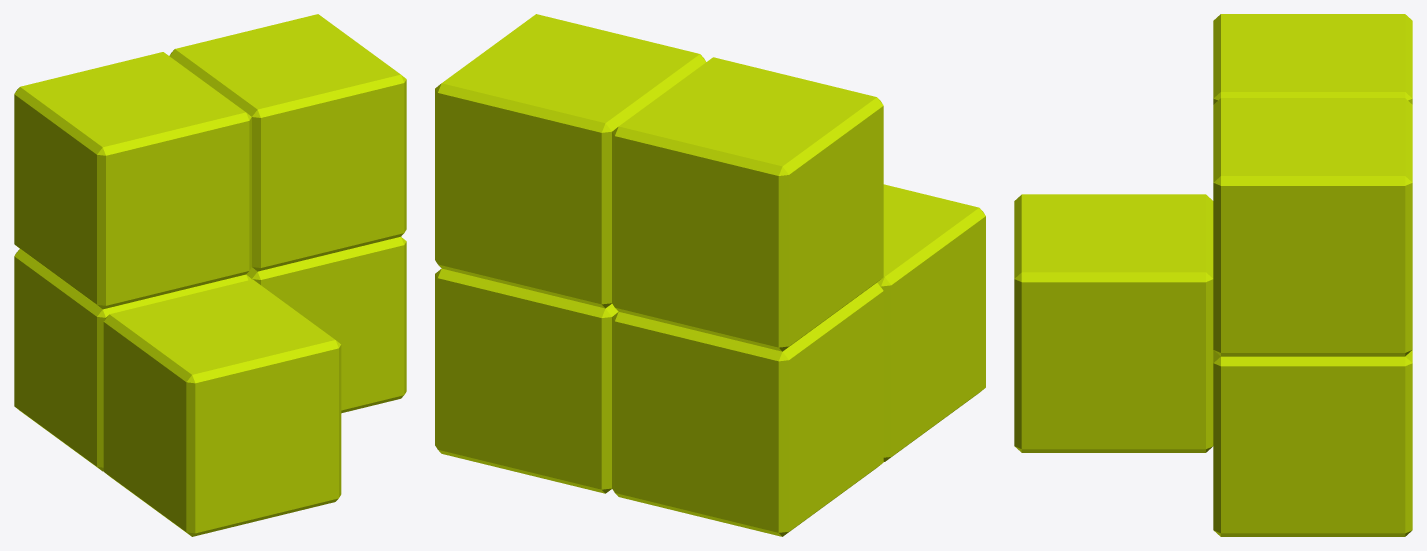
3 renders of one model, left to right at view 1: azimuth 30°, elevation 25°; view 2: azimuth 150°, elevation 25°; view 3: azimuth 270°, elevation 25°, orthographic. The views are drawn at different scales.
Visible parts, largest first — view 1: Cube, Cube.002, Cube.004, Cube.001, Cube.003; view 2: Cube.002, Cube.001, Cube.004, Cube.003, Cube; view 3: Cube, Cube.004, Cube.003, Cube.002.
Part boxes in pixels (x1,y1,x2,y2): Cube: (103,279,341,536); Cube.002: (14,52,251,309); Cube.004: (169,14,406,271); Cube.001: (14,249,251,471); Cube.003: (246,236,406,413); Cube.002: (612,57,883,351); Cube.001: (612,282,883,536); Cube.004: (435,14,705,308); Cube.003: (435,268,618,493); Cube: (877,184,985,461); Cube: (1014,194,1213,452); Cube.004: (1213,98,1412,356); Cube.003: (1213,350,1412,536); Cube.002: (1213,14,1412,104).
Size of the model in its own units: 4 by 4 by 4.
